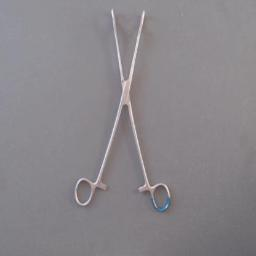Sponge Forceps: (71, 3, 175, 217)
